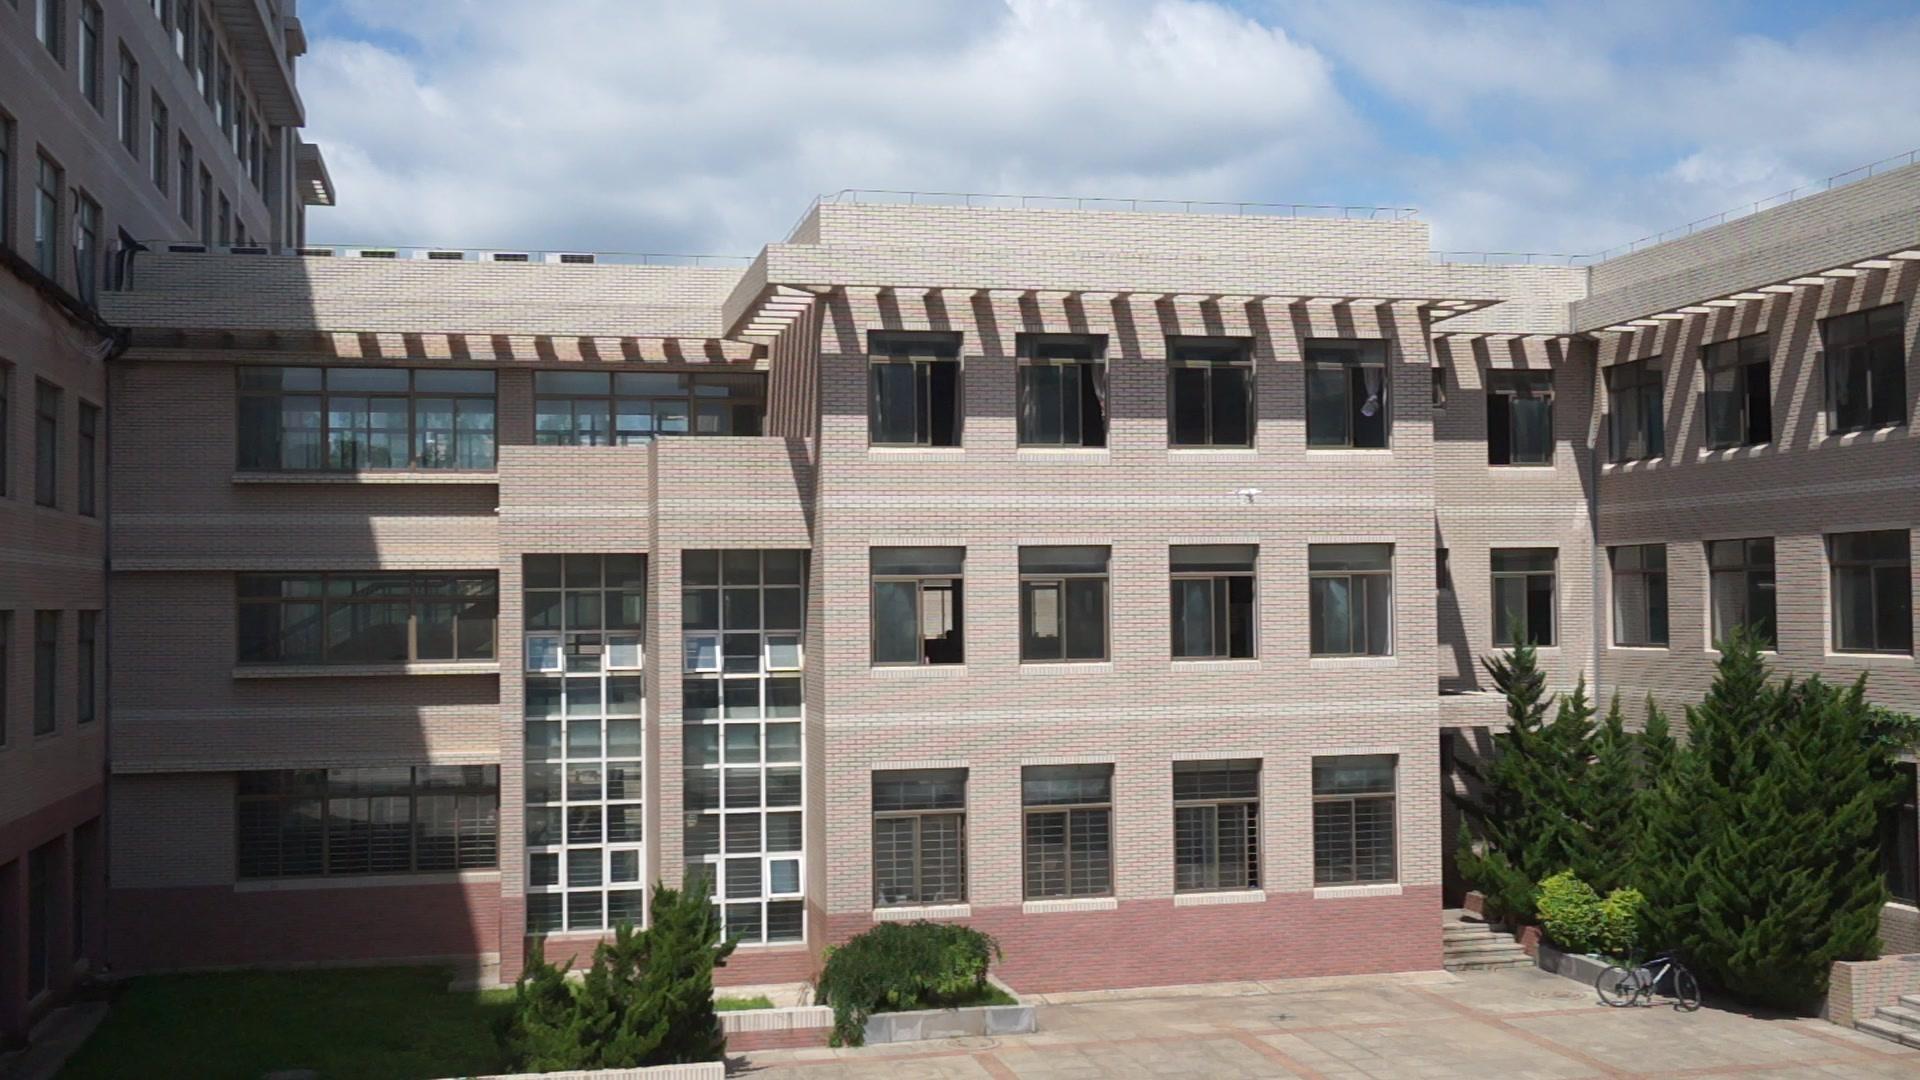UAV: (1228, 489, 1263, 505)
